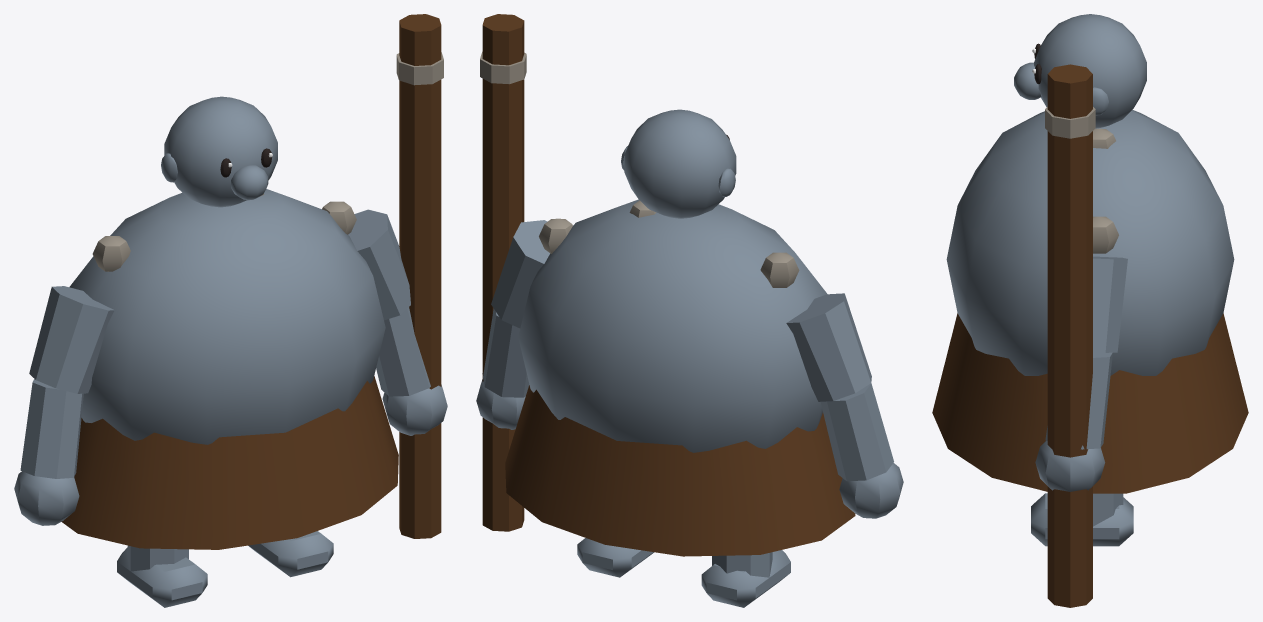
Rendered from CH_Cust_26_Trol.fbx.
3 renders of one model, left to right at view 1: azimuth 30°, elevation 25°; view 2: azimuth 150°, elevation 25°; view 3: azimuth 270°, elevation 25°, orthographic. The views are drawn at different scales.
Parts seen in each view (by area): view 1: CH_Cust_26_Trol; view 2: CH_Cust_26_Trol; view 3: CH_Cust_26_Trol.
Part boxes in pixels (x1=…): CH_Cust_26_Trol: x1=14, y1=14, x2=447, y2=607; CH_Cust_26_Trol: x1=476, y1=14, x2=903, y2=607; CH_Cust_26_Trol: x1=932, y1=14, x2=1248, y2=607.
Size of the model in its own units: 1.24 by 1.42 by 0.77.
